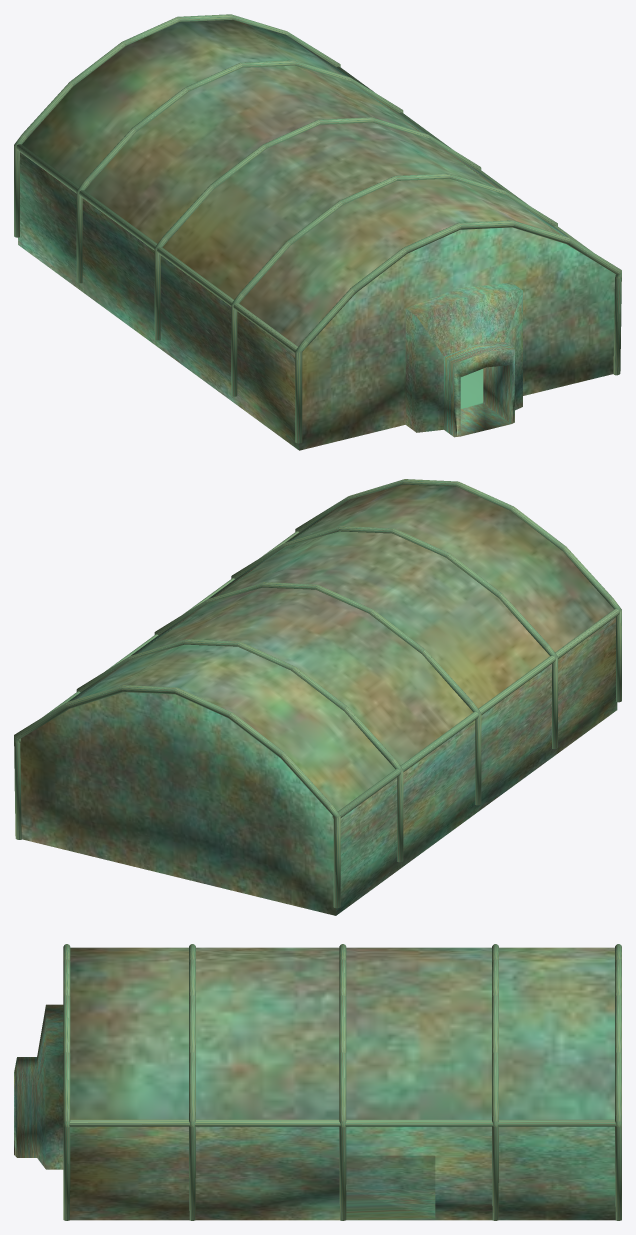
Rendered from Barracks.FBX.
3 views of the same model, one above another, from view 1: azimuth 30°, elevation 25°; view 2: azimuth 150°, elevation 25°; view 3: azimuth 270°, elevation 25° (orthographic). The views are drawn at different scales.
Visible parts, largest first — view 1: Barracks; view 2: Barracks; view 3: Barracks.
Part boxes in pixels (x1,y1,x2,y2): Barracks: (14, 14, 621, 450); Barracks: (14, 479, 621, 915); Barracks: (14, 944, 621, 1220).
Bounding box in the file's own units: 9.68 × 5.38 × 15.97.
